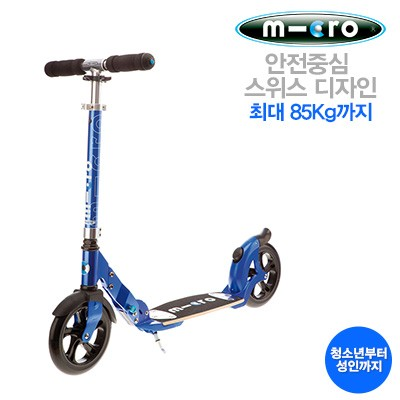scooter: (42, 49, 280, 374)
